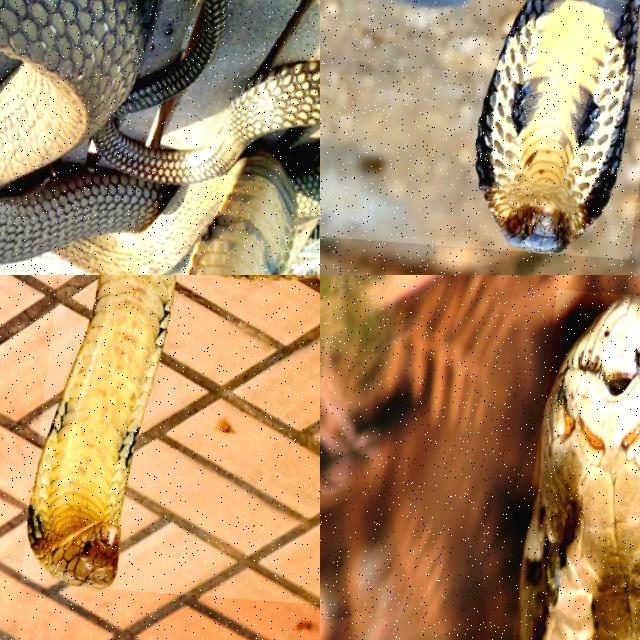Ophiophagus hannah: (0, 0, 319, 274), (28, 275, 176, 587), (476, 0, 639, 251)
Python bivittatus: (521, 295, 639, 639)
snake: (0, 0, 319, 274), (28, 275, 176, 587), (476, 0, 639, 251), (521, 295, 639, 639)
